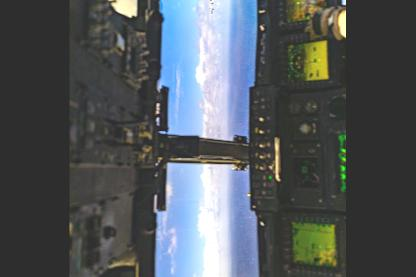A10: (209, 0, 214, 16)
